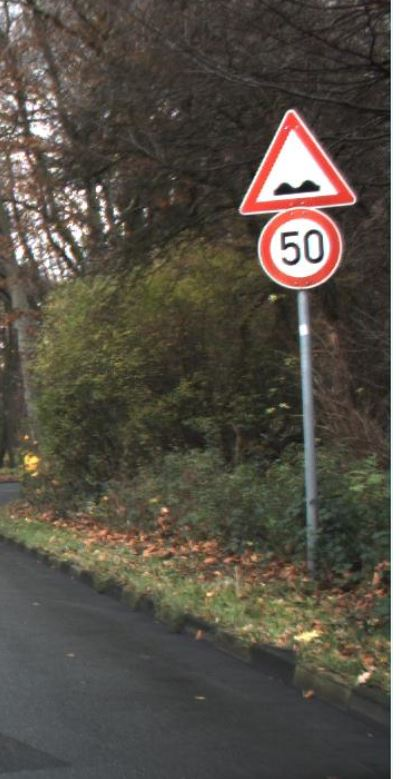50 Km Hiz Siniri: (261, 206, 348, 291)
Kasisli Yol: (239, 104, 359, 209)
